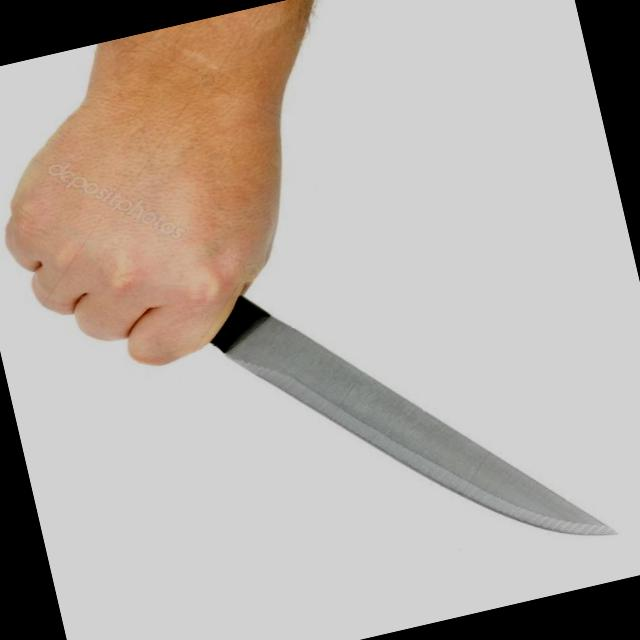knife: (49, 181, 624, 639)
